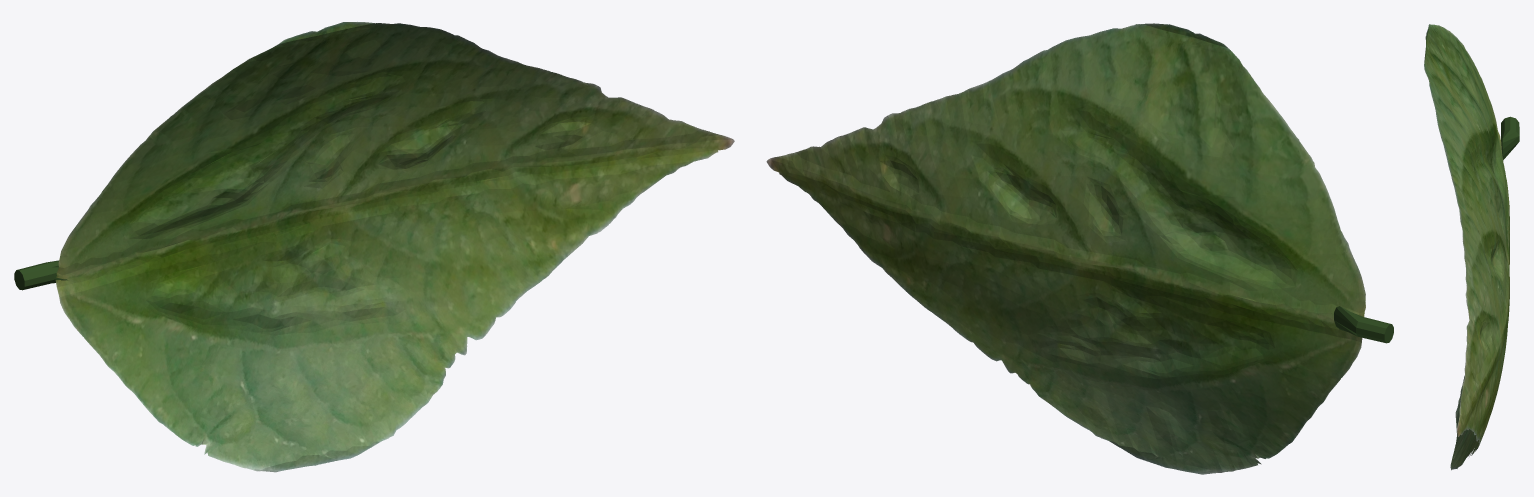
File: SoybeanLeaf.obj
3 renders of one model, left to right at view 1: azimuth 30°, elevation 25°; view 2: azimuth 150°, elevation 25°; view 3: azimuth 270°, elevation 25°, orthographic. The views are drawn at different scales.
Parts seen in each view (by area): view 1: leaf, petiolule; view 2: leaf, petiolule; view 3: leaf, petiolule.
Boxes of the visible parts, x1=… form: leaf: x1=55, y1=22, x2=734, y2=472; petiolule: x1=14, y1=260, x2=67, y2=290; leaf: x1=766, y1=23, x2=1365, y2=474; petiolule: x1=1334, y1=306, x2=1393, y2=343; leaf: x1=1424, y1=24, x2=1509, y2=470; petiolule: x1=1501, y1=116, x2=1519, y2=160.
Bounding box in the file's own units: 1.02 × 0.6504 × 0.1382.
